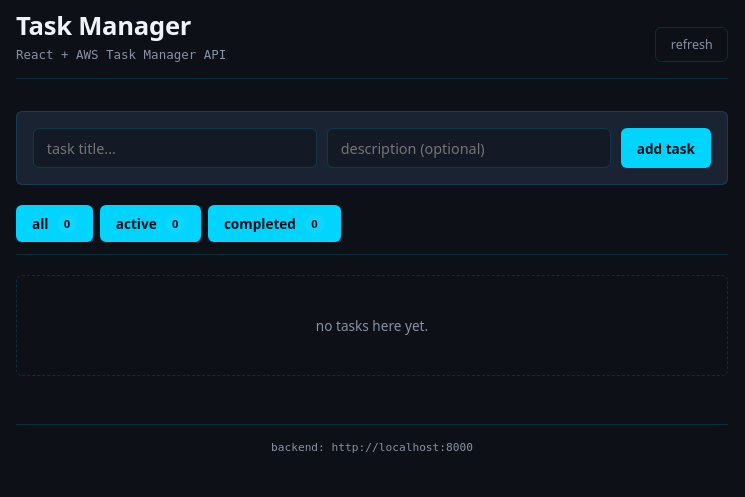
Test case: App: creating a task › blocks submit when the title is empty and shows a validation error
What coordinates should you click on to do the following:
click the button "add task"
I would click on:
 (666, 148)
Its box is [621,128,711,168].
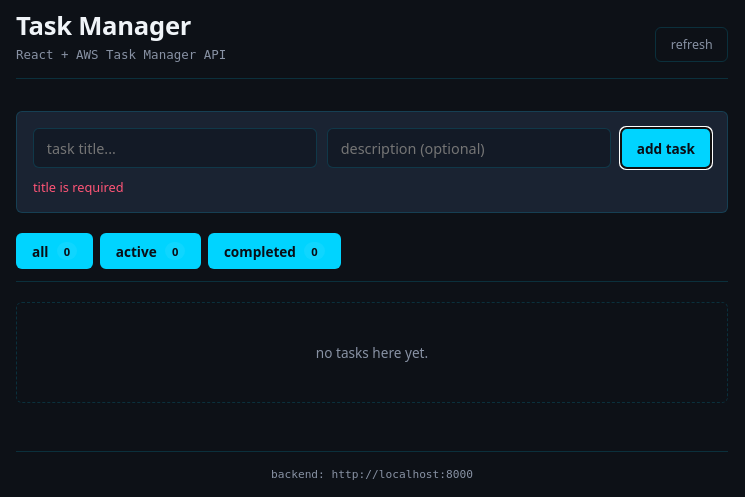
Result: the text "title is required" is shown at [33,178,124,196]
